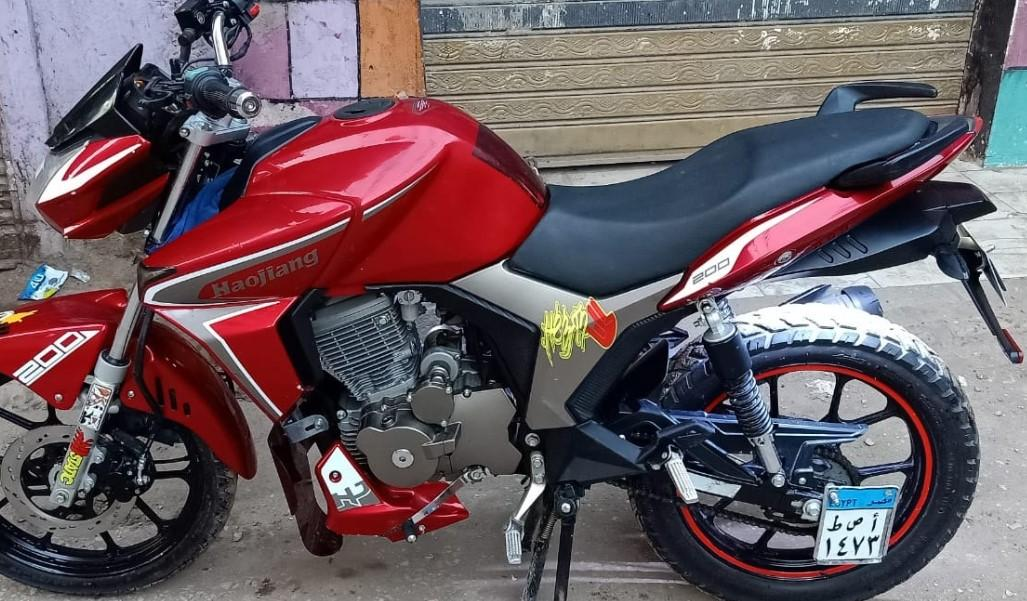License Plate: (818, 487, 902, 566)
